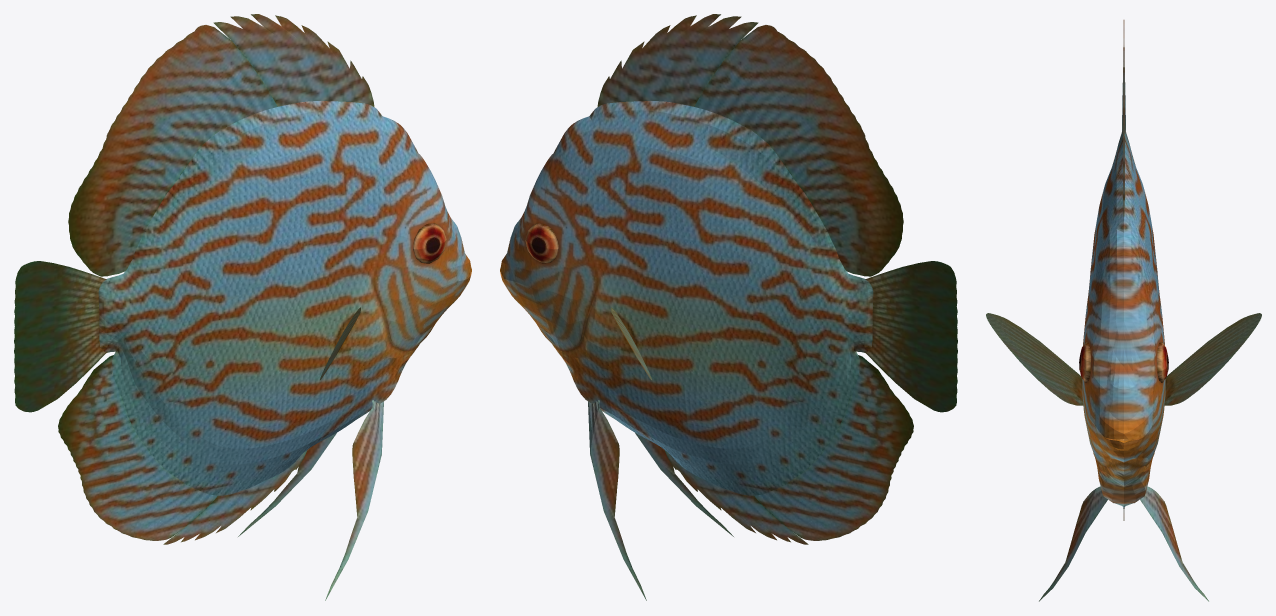
The model's file is discus.glb.
3 renders of one model, left to right at view 1: azimuth 30°, elevation 25°; view 2: azimuth 150°, elevation 25°; view 3: azimuth 270°, elevation 25°, orthographic. The views are drawn at different scales.
Parts seen in each view (by area): view 1: discus; view 2: discus; view 3: discus.
Part boxes in pixels (x1,y1,x2,y2): discus: (14,14,471,600); discus: (500,14,957,600); discus: (986,20,1261,601).
Size of the model in its own units: 1 by 1.19 by 0.5377.
Materials: 1 (1 with a texture image).
